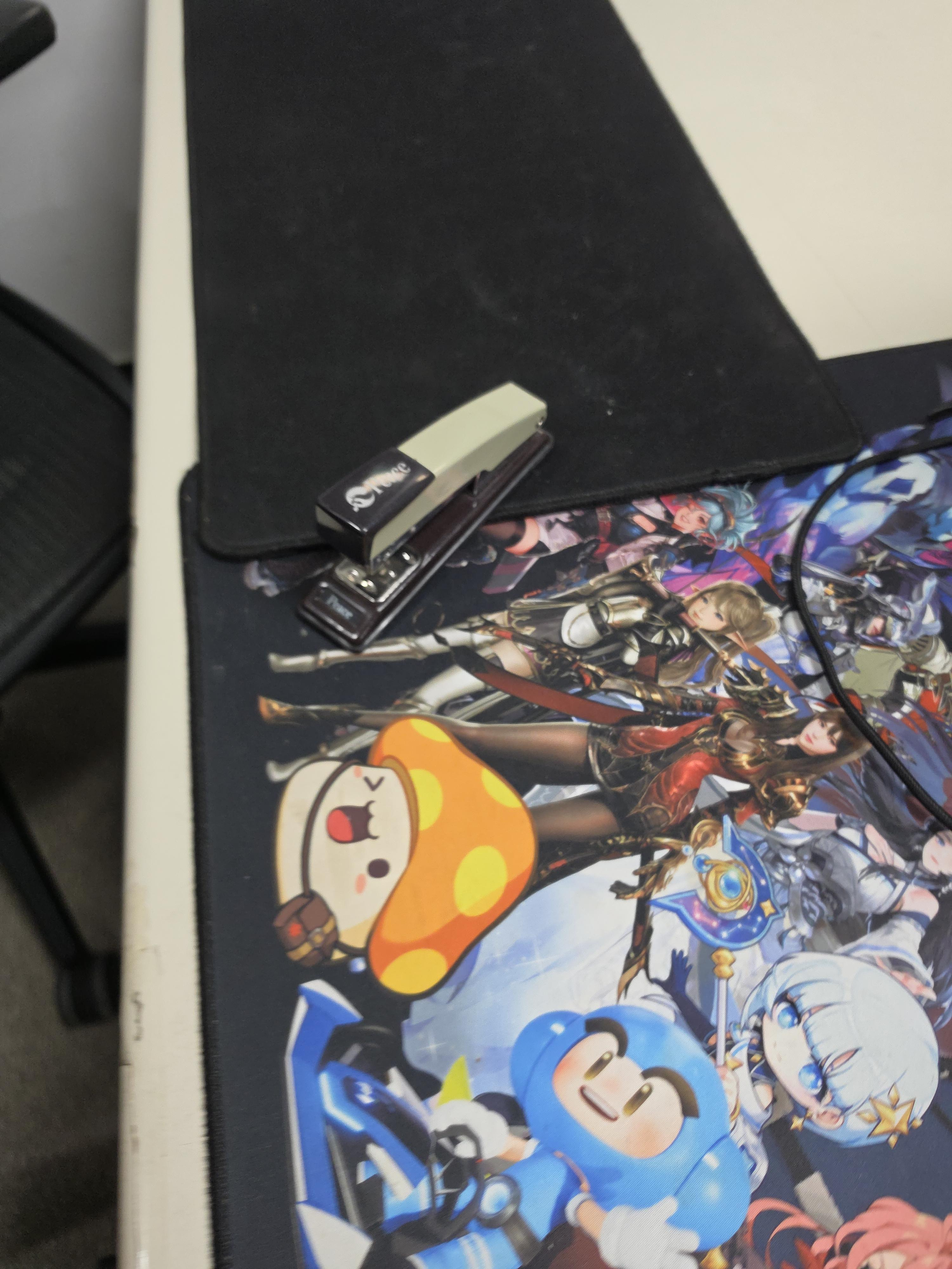stapler: (296, 382, 555, 650)
